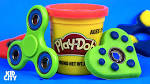fidget_kid_spinner_toys: (8, 6, 63, 75)
